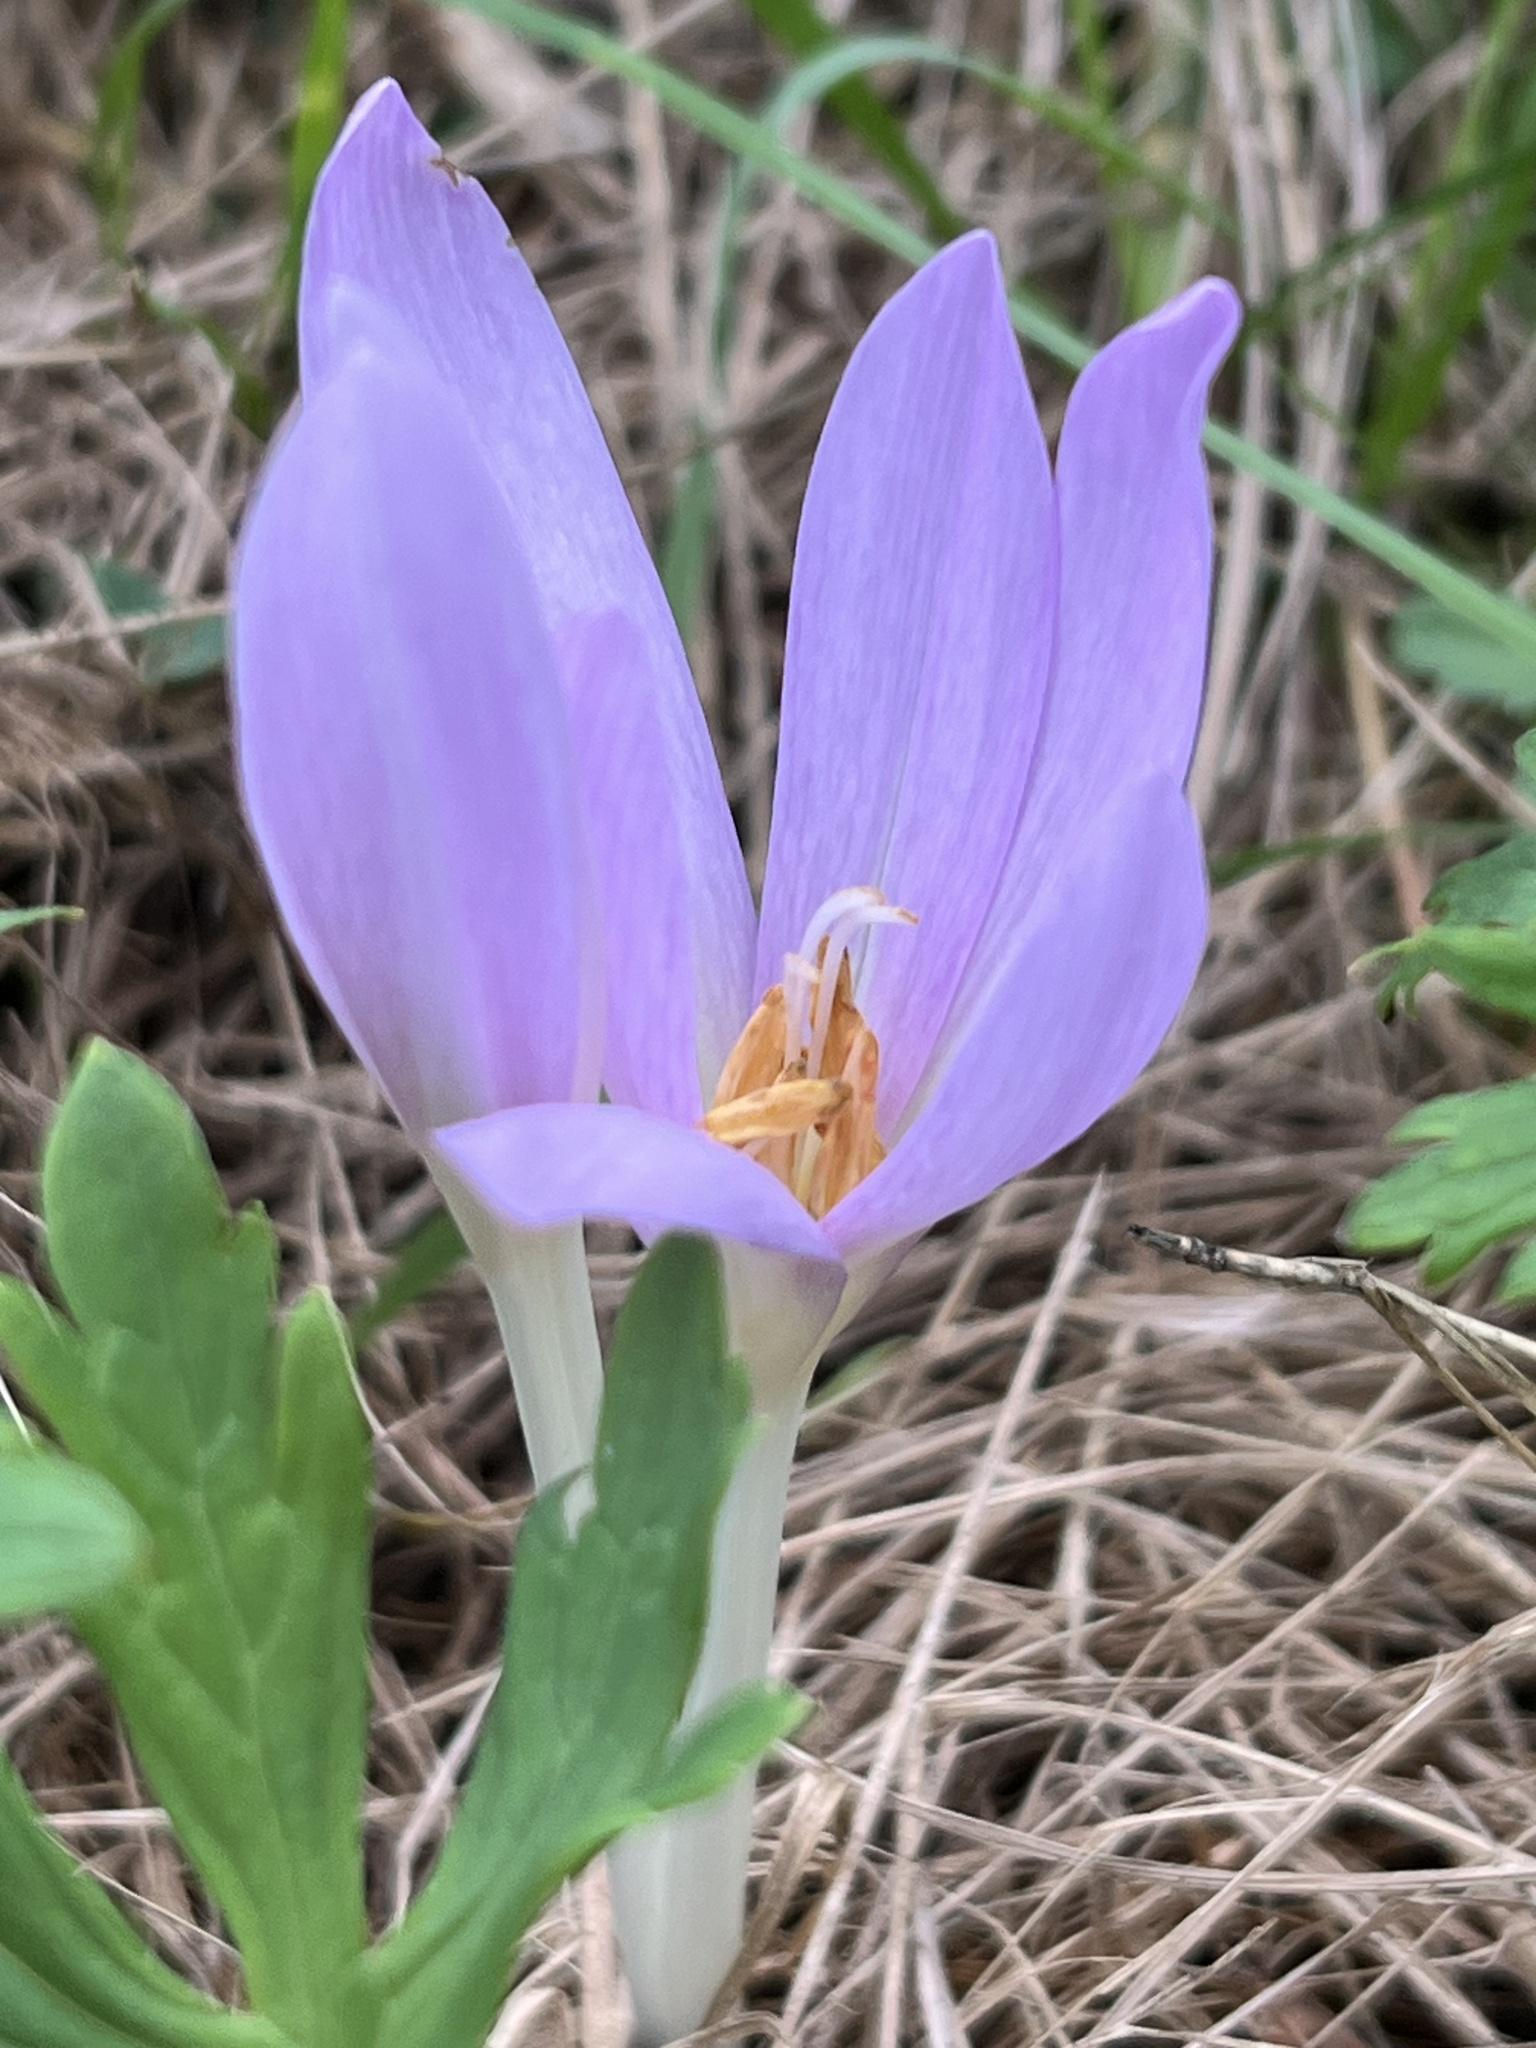Colchicum autumnale L: (186, 82, 1328, 2048)
